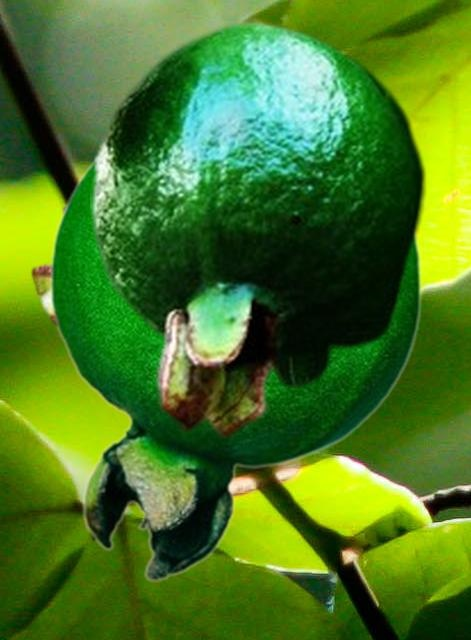guava: (48, 157, 422, 581), (90, 19, 427, 439)
